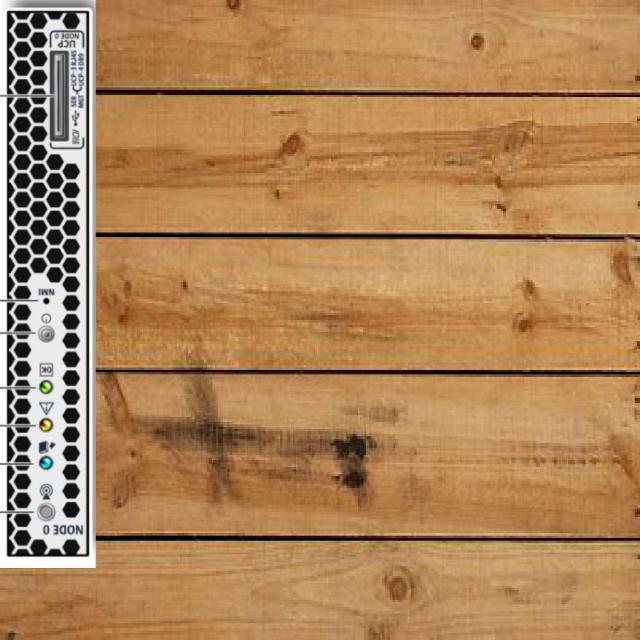Server: (0, 0, 96, 568)
